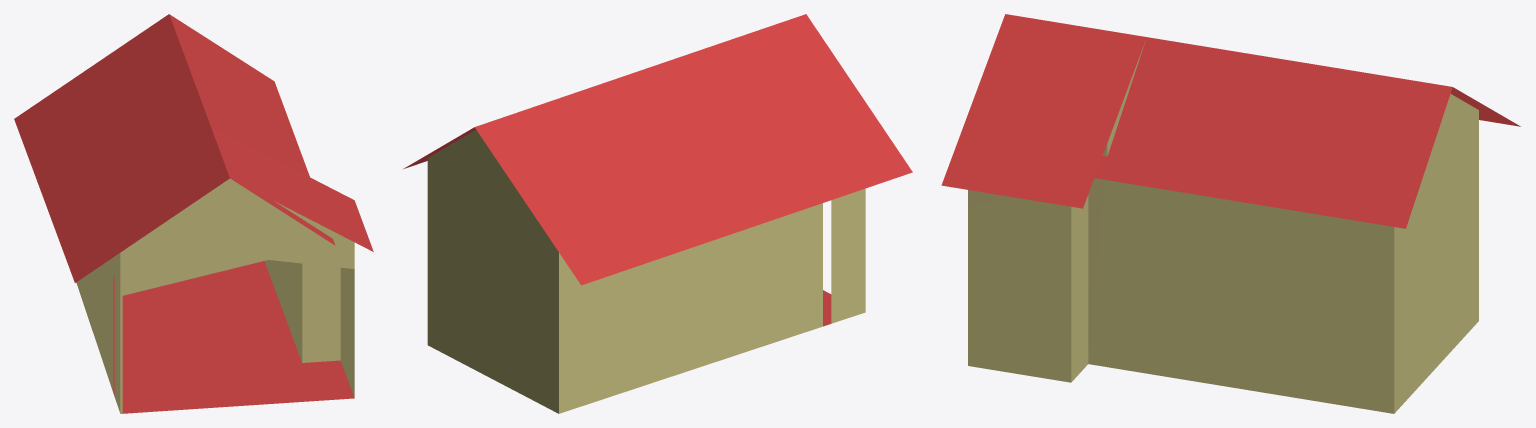
3 views of the same model, side by side, from view 1: azimuth 30°, elevation 25°; view 2: azimuth 150°, elevation 25°; view 3: azimuth 270°, elevation 25° (orthographic). The views are drawn at different scales.
Bounding box in the file's own units: 17.25 × 21.18 × 11.56.
